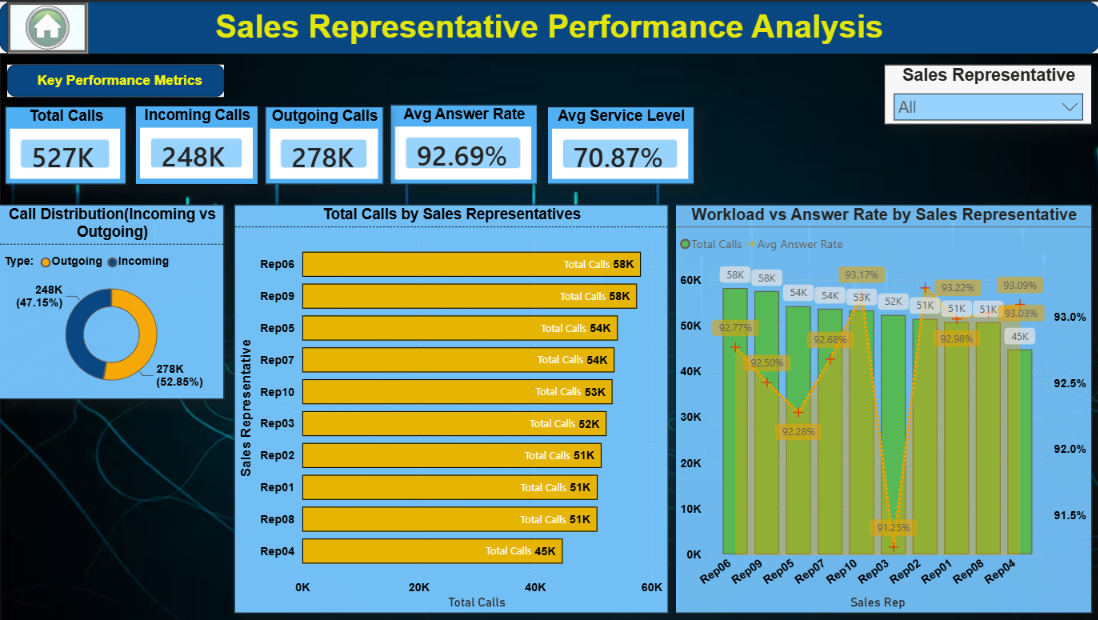

The page's visual inventory and layout, read from the dashboard file:
{"tool":"powerbi","page":{"name":"Efficiency Dashboard","canvas":[1280,720],"ordinal":2},"visuals":[{"type":"group","id":"g1","title":"Group 1","box":[0,0,1280.3,60.4],"z":0},{"type":"shape","box":[0,0,1280.3,60.4],"z":0,"group":"g1"},{"type":"shape","box":[9.3,73.3,252.3,37.2],"z":0,"group":"g2"},{"type":"textbox","box":[9.6,0,1261.1,60.4],"z":1000,"group":"g1"},{"type":"textbox","box":[21.7,76.1,232.2,32.6],"z":1000,"group":"g2"},{"type":"cardVisual","title":"Total Calls","fields":{"Data":["Call Center Data.Total Calls"]},"box":[7,122.1,140.7,90.7],"z":1000},{"type":"cardVisual","title":"Avg Answer Rate","fields":{"Data":["Call Center Data.Avg Answer Rate"]},"box":[454.7,119.8,170.9,93],"z":2000},{"type":"cardVisual","title":"Avg Service Level","fields":{"Data":["Call Center Data.Avg Service Level"]},"box":[637.2,122.1,170.9,90.7],"z":3000},{"type":"slicer","title":"Sales Representative","fields":{"Values":["Call Center Data.Sales Rep"]},"box":[1029.1,73.3,241.9,69.8],"z":4000},{"type":"cardVisual","title":"Incoming Calls","fields":{"Data":["Call Center Data.Incoming calls Total"]},"box":[158.1,120.9,143,91.9],"z":5000},{"type":"cardVisual","title":"Outgoing Calls","fields":{"Data":["Call Center Data.Outgoing calls Total"]},"box":[309.3,122.1,137.2,90.7],"z":6000},{"type":"group","id":"g2","title":"Group 1","box":[9.3,73.3,252.3,37.2],"z":7000},{"type":"donutChart","title":"Call Distribution(Incoming vs Outgoing)","fields":{"Category":["Call Type.Type"],"Y":["Call Center Data.Calls by Type"]},"box":[0,236,261.6,226.7],"z":8000},{"type":"clusteredBarChart","title":"Total Calls by Sales Representatives","fields":{"Category":["Call Center Data.Sales Rep"],"Y":["Call Center Data.Total Calls"]},"box":[273.3,236,504.7,475.6],"z":9000},{"type":"lineClusteredColumnComboChart","title":"Workload vs Answer Rate by Sales Representative","fields":{"Category":["Call Center Data.Sales Rep"],"Y":["Call Center Data.Total Calls"],"Y2":["Call Center Data.Avg Answer Rate"]},"box":[786,236,484.9,475.6],"z":10000},{"type":"actionButton","box":[9.3,0,94.2,60.5],"z":11000}]}

Visuals, with their boxes in screenshot pixels (x1, y1, x2, y2), scaled from the page's 1280x720 canvas onto the 1098x620 screenshot:
"Group 1" group: Rect(0, 0, 1097, 52)
shape: Rect(0, 0, 1097, 52)
shape: Rect(8, 63, 224, 95)
textbox: Rect(8, 0, 1090, 52)
textbox: Rect(19, 66, 218, 94)
"Total Calls" cardVisual: Rect(6, 105, 127, 183)
"Avg Answer Rate" cardVisual: Rect(390, 103, 537, 183)
"Avg Service Level" cardVisual: Rect(547, 105, 693, 183)
"Sales Representative" slicer: Rect(883, 63, 1090, 123)
"Incoming Calls" cardVisual: Rect(136, 104, 258, 183)
"Outgoing Calls" cardVisual: Rect(265, 105, 383, 183)
"Group 1" group: Rect(8, 63, 224, 95)
"Call Distribution(Incoming vs Outgoing)" donutChart: Rect(0, 203, 224, 398)
"Total Calls by Sales Representatives" clusteredBarChart: Rect(234, 203, 667, 613)
"Workload vs Answer Rate by Sales Representative" lineClusteredColumnComboChart: Rect(674, 203, 1090, 613)
actionButton: Rect(8, 0, 89, 52)
